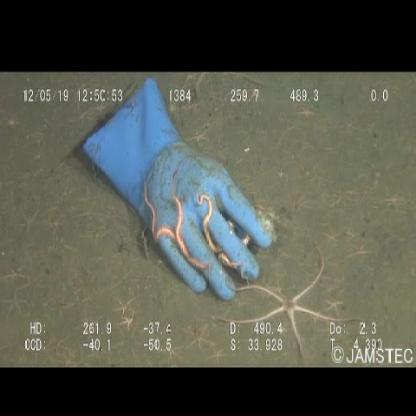Rác: (77, 78, 276, 309)
